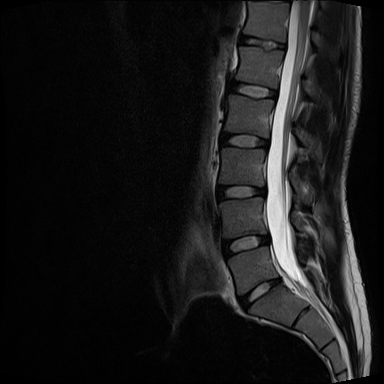Lumbar Disc Bulge (LDB): (214, 228, 284, 263), (211, 182, 274, 203)
Normal IVD: (231, 272, 285, 315), (224, 77, 280, 104), (218, 131, 273, 151), (238, 34, 289, 54)
Spinal Stenosis (SS): (260, 226, 274, 250), (257, 179, 272, 199)
